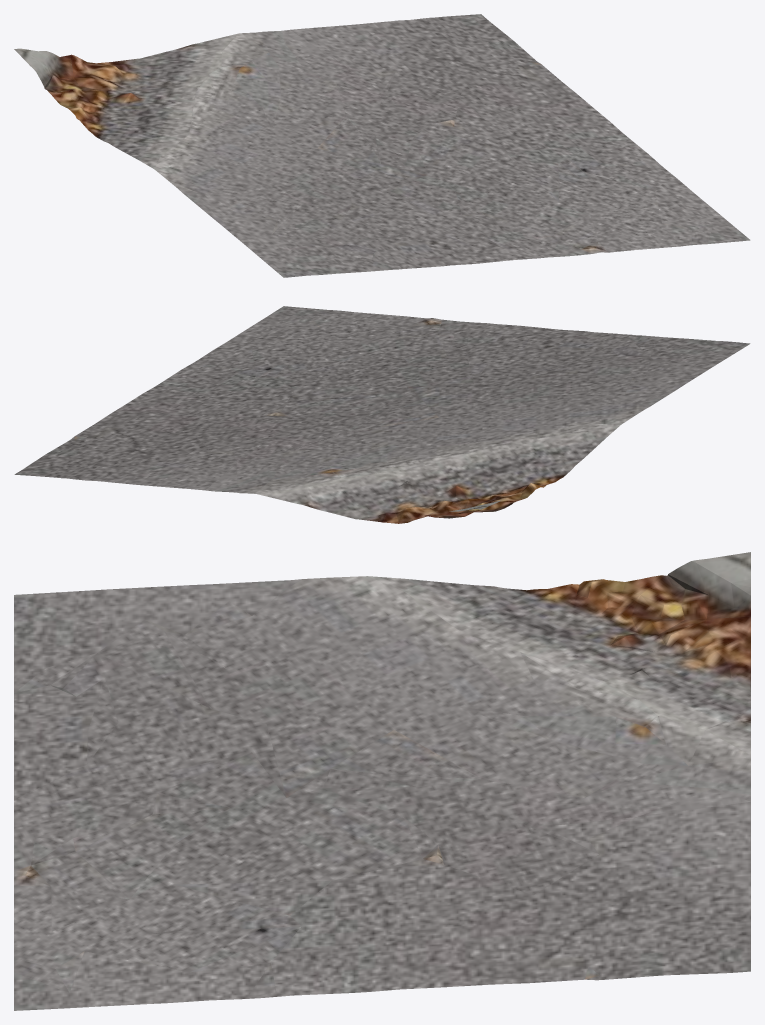
3 renders of one model, top to bottom at view 1: azimuth 30°, elevation 25°; view 2: azimuth 150°, elevation 25°; view 3: azimuth 270°, elevation 25°, orthographic. The views are drawn at different scales.
Size of the model in its own units: 1.67 by 0.3697 by 1.67.
Materials: 3 (3 with a texture image).
